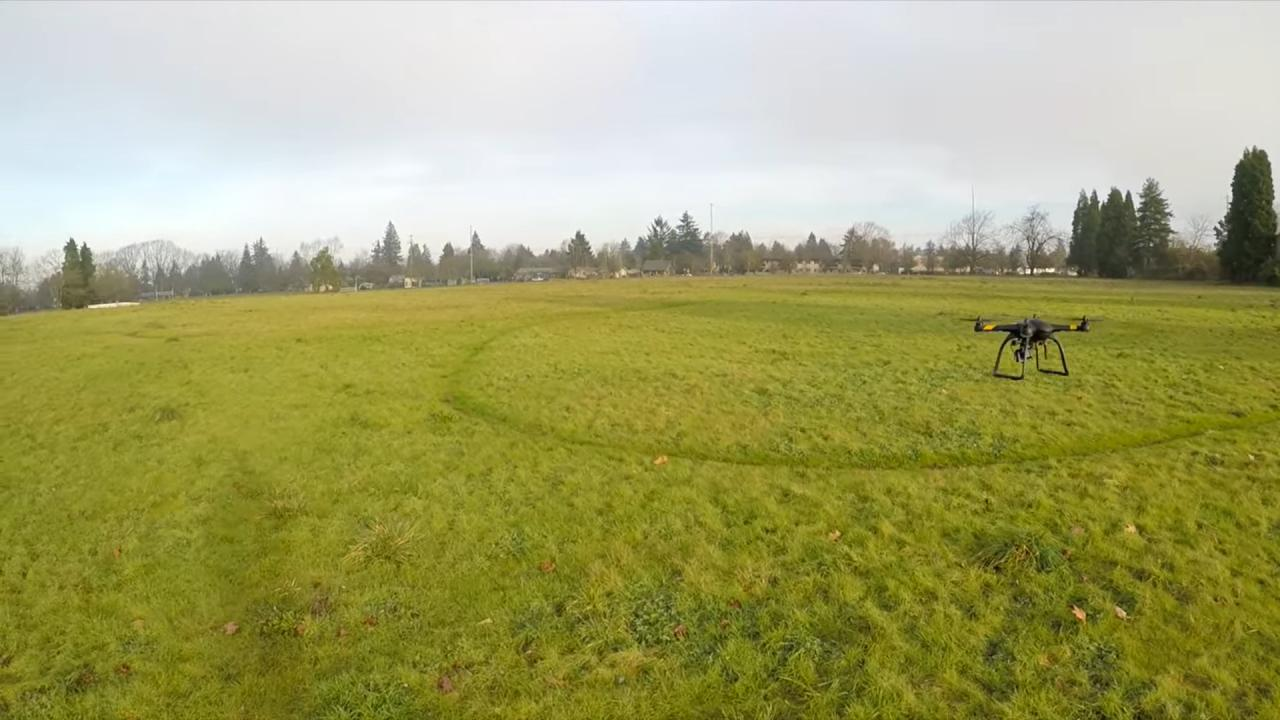Drone: (947, 306, 1111, 386)
